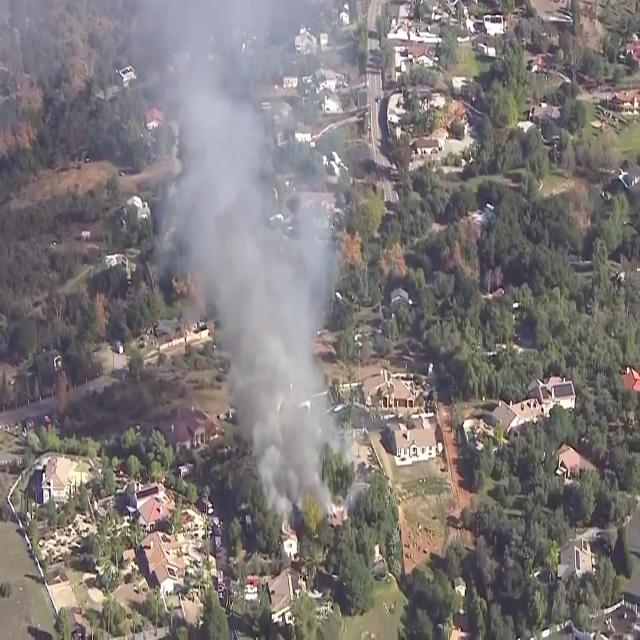Smoke: (127, 1, 360, 522)
